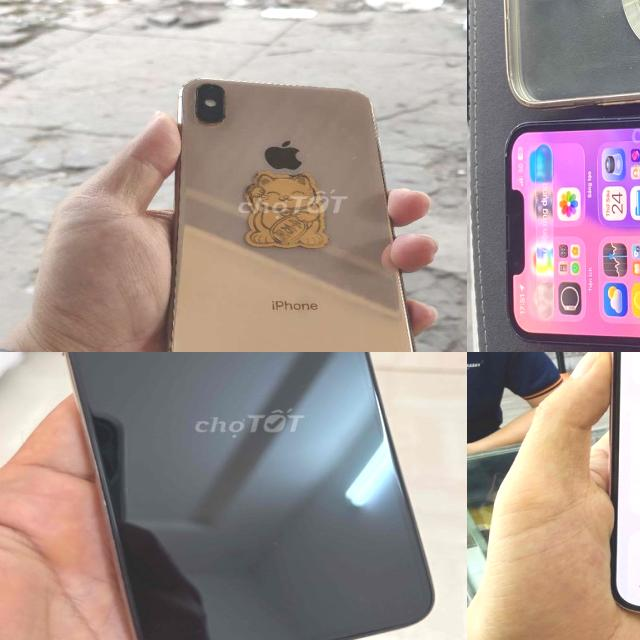gen_12_13: (493, 101, 640, 352)
gen_15: (587, 352, 640, 627)
gen_x_xs: (67, 352, 432, 640), (156, 71, 422, 352)
scratch: (500, 126, 522, 350)
